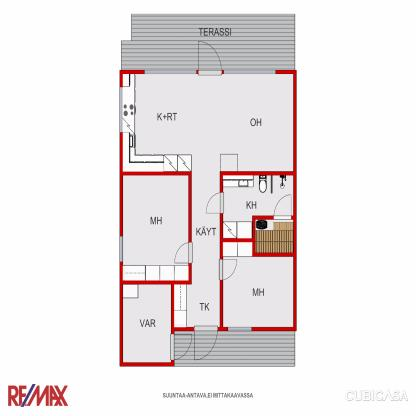door: (196, 38, 222, 76), (194, 326, 218, 359), (170, 334, 192, 361), (274, 193, 293, 218), (173, 243, 194, 265), (206, 192, 226, 215), (218, 258, 236, 280)
window: (222, 67, 275, 76), (144, 68, 196, 74), (119, 88, 124, 132), (119, 237, 124, 267), (227, 326, 250, 332)
zone: (123, 74, 295, 325), (122, 14, 294, 67), (122, 174, 188, 280), (222, 174, 292, 255), (174, 329, 296, 368), (223, 259, 292, 325), (122, 284, 171, 362)
